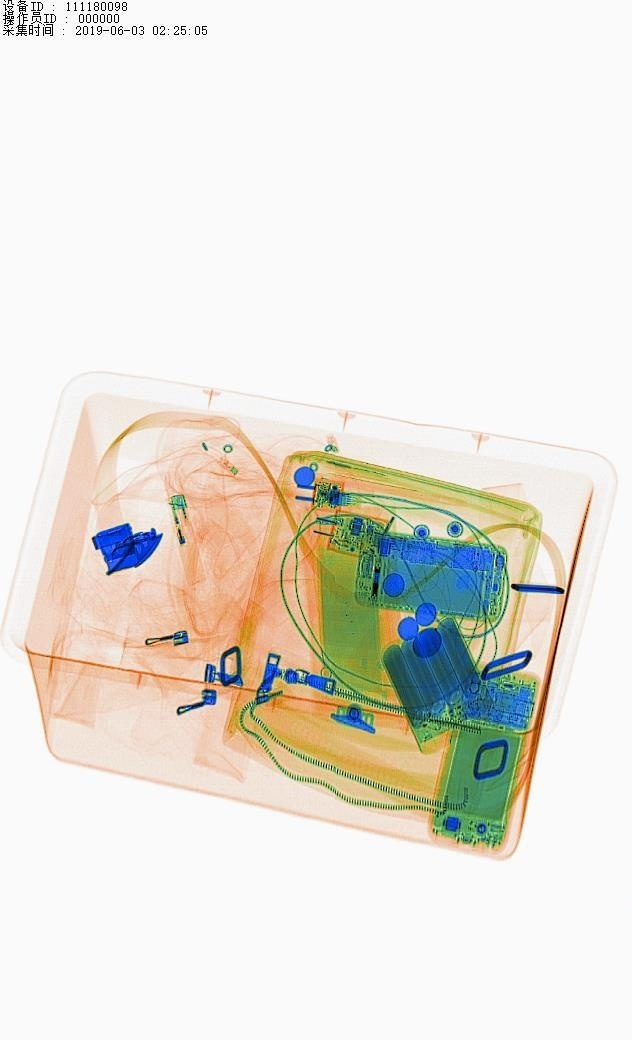NonmetallicFire: (165, 479, 224, 582)
